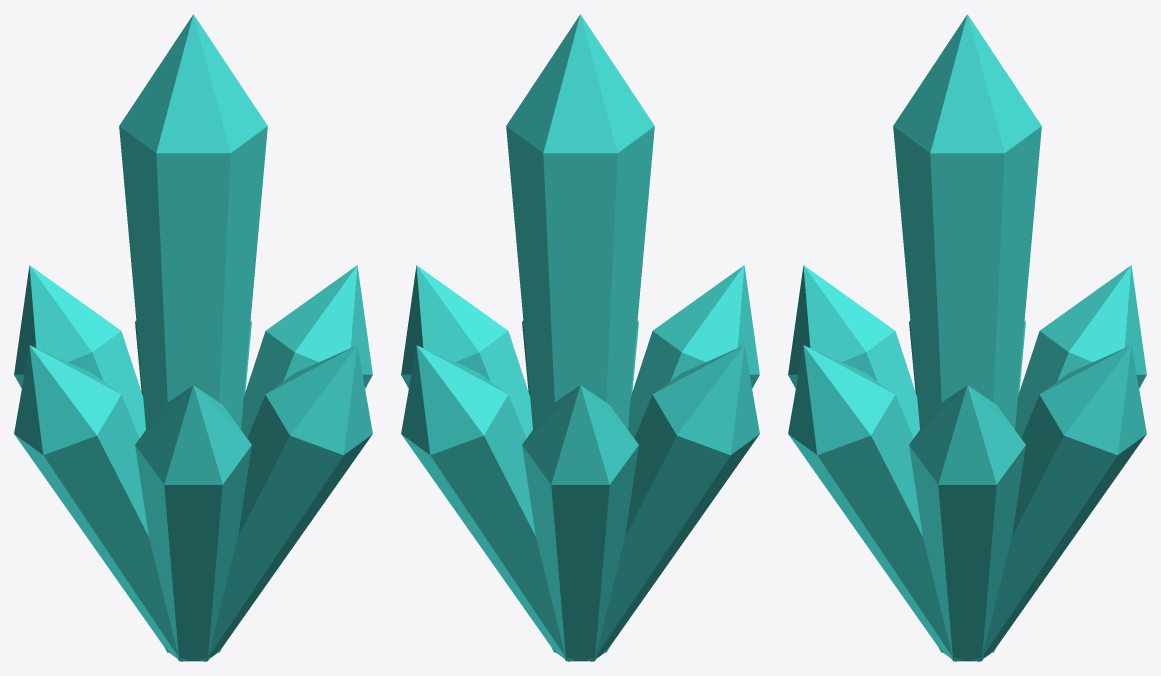
The model's file is CrystalUV.fbx.
3 renders of one model, left to right at view 1: azimuth 30°, elevation 25°; view 2: azimuth 150°, elevation 25°; view 3: azimuth 270°, elevation 25°, orthographic.
Parts seen in each view (by area): view 1: Cylinder; view 2: Cylinder; view 3: Cylinder.
Part boxes in pixels (x1,y1,x2,y2): Cylinder: (14,14,372,661); Cylinder: (401,14,759,661); Cylinder: (788,14,1146,661).
Bounding box in the file's own units: 46.56 × 86.13 × 43.9.
